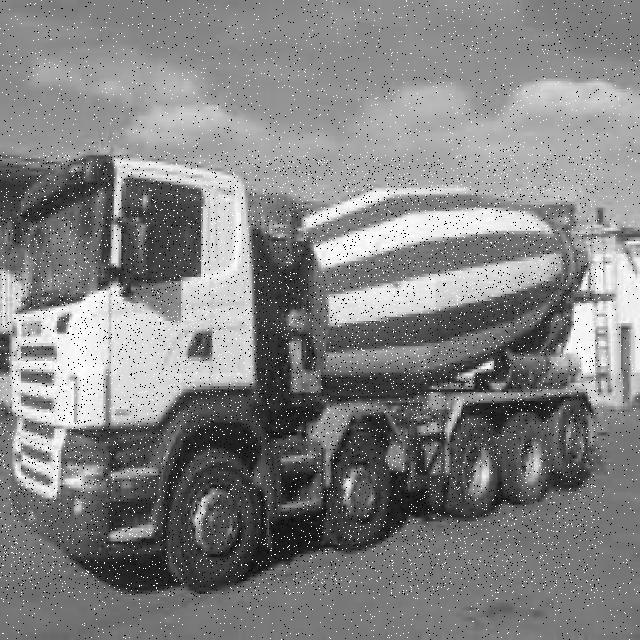Concrete Mixer: (0, 155, 599, 595)
